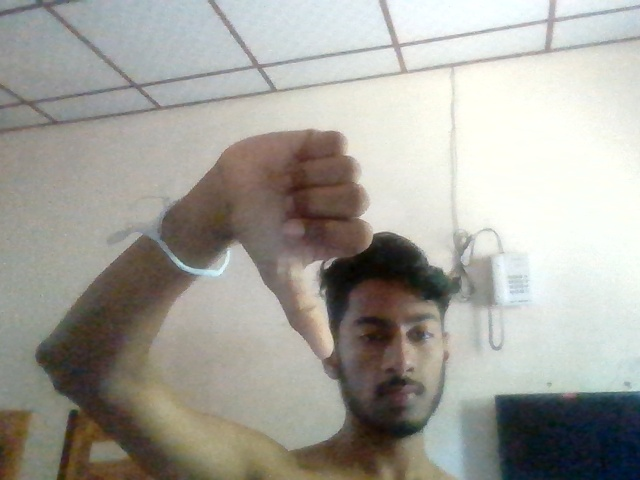ThumbsDown: (212, 129, 371, 358)
